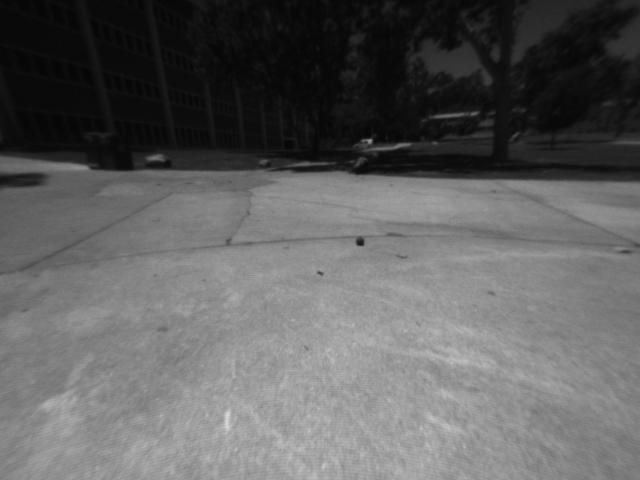dogtoy: (351, 230, 369, 248)
